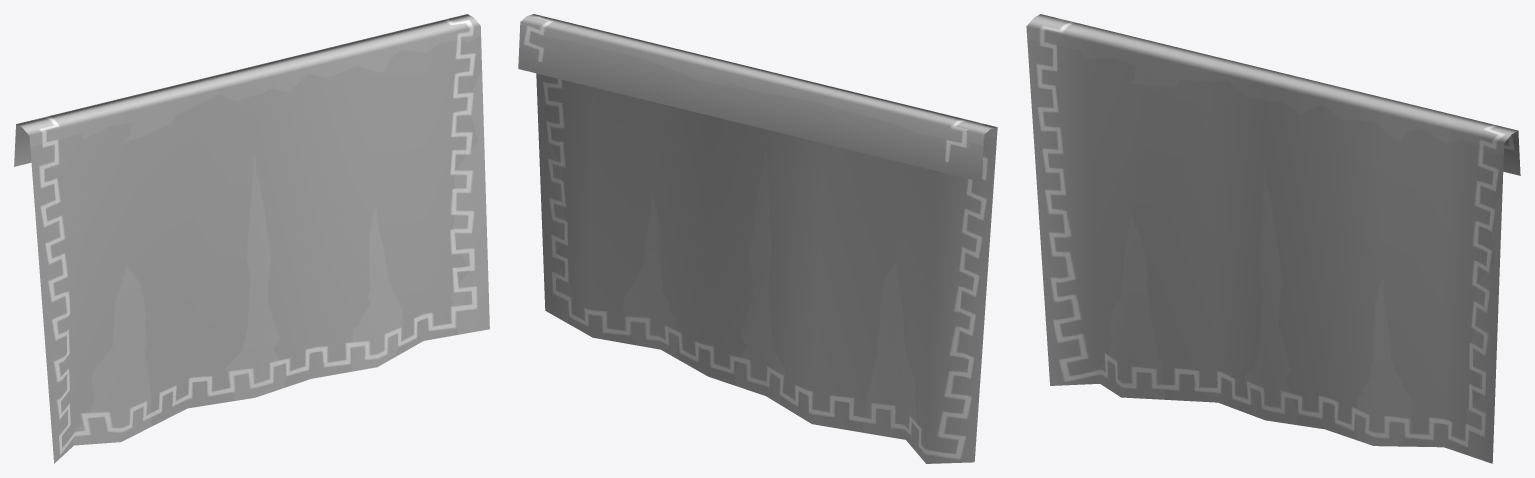
Rendered from BannerWall1.fbx.
3 views of the same model, side by side, from view 1: azimuth 30°, elevation 25°; view 2: azimuth 150°, elevation 25°; view 3: azimuth 330°, elevation 25° (orthographic). The views are drawn at different scales.
Visible parts, largest first — view 1: BannerWall1; view 2: BannerWall1; view 3: BannerWall1.
Boxes of the visible parts, x1,y1,x2,y2 form: BannerWall1: (14, 14, 489, 463); BannerWall1: (518, 14, 997, 463); BannerWall1: (1026, 14, 1520, 463).
Bounding box in the file's own units: 1531 × 1090 × 149.
